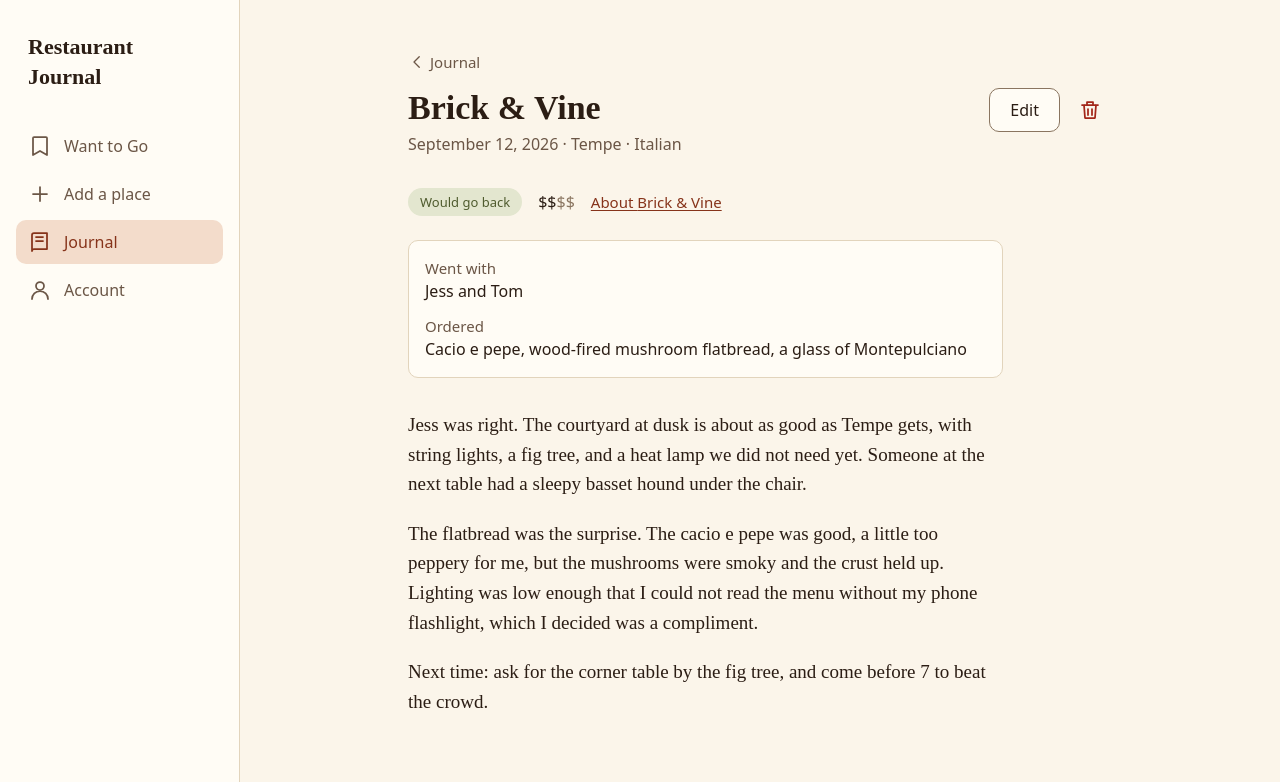
Test: Delete entry › deleting a place's only entry sends it back to Want to Go
This screenshot has width=1280, height=782.
Click the button named "Delete entry for Brick & Vine" at (1090, 110), box [1068,88,1112,132]
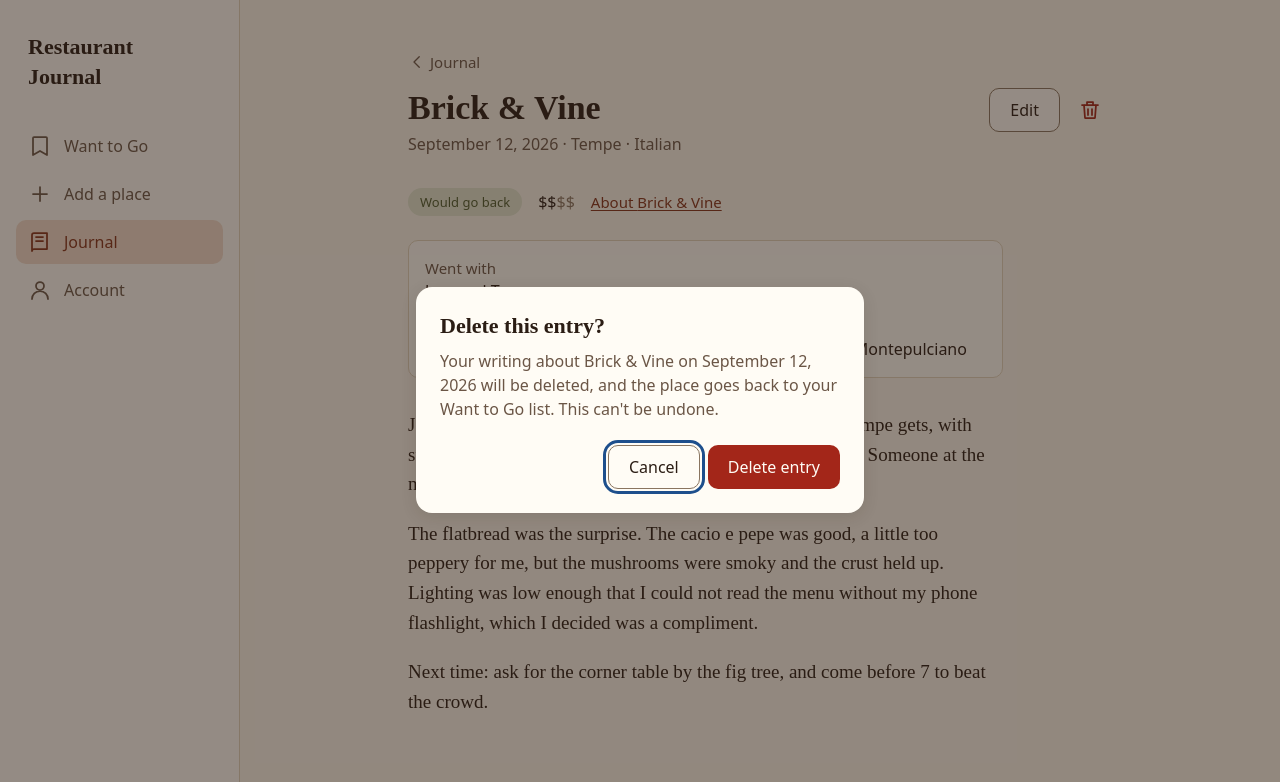
Click the button "Delete entry" at (774, 467), box [708,445,840,489]
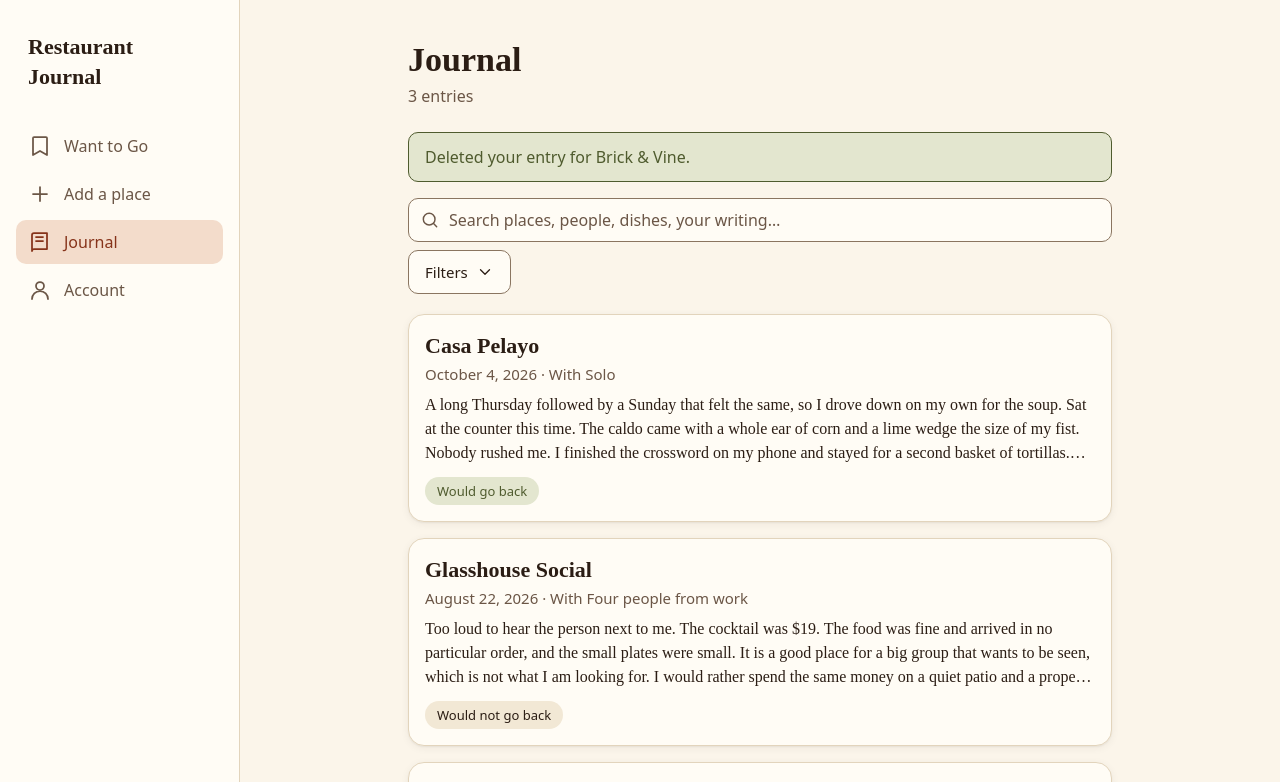
Check: the heading "Journal" is shown, box [408,40,521,80]
Check: the text "Deleted your entry for Brick & Vine." is shown, box [408,132,1112,182]
Check: the text "3 entries" is shown, box [408,85,473,107]
